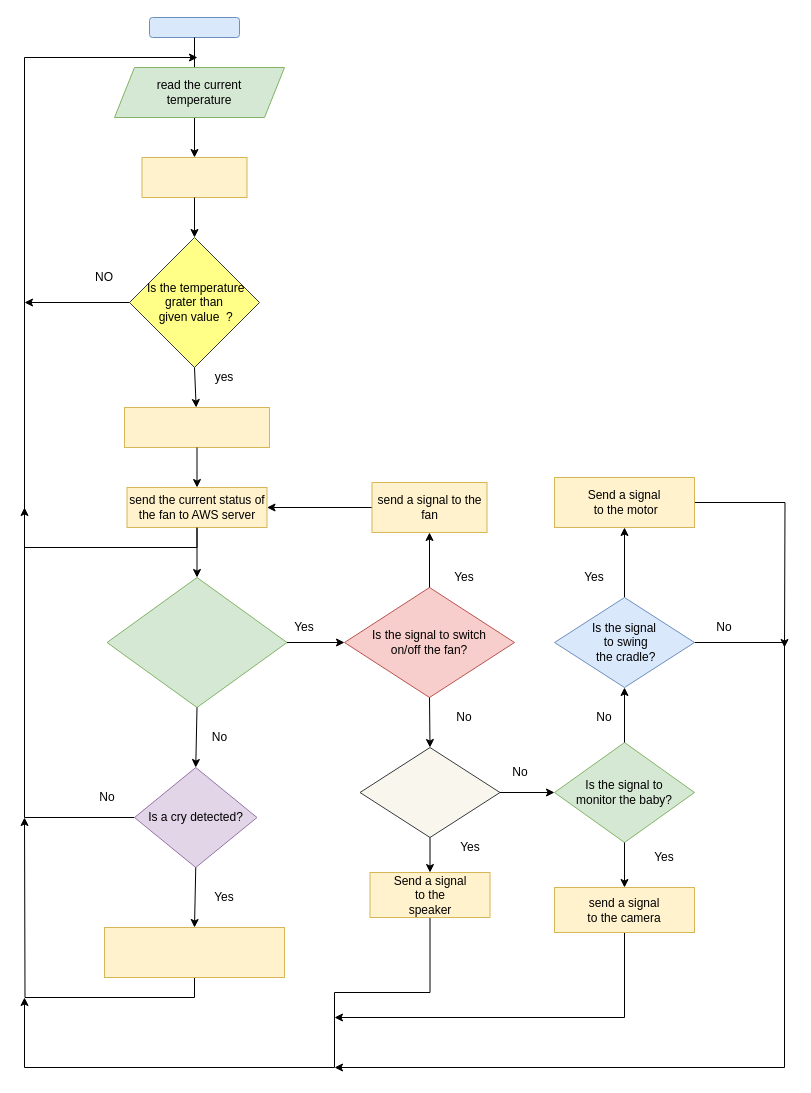
Some shapes in this 811 by 1093 pixel diagram are drawn without their labels. The centre of each missing label's shape, as x and y in pixels:
"Is a signal received from the mobile app?" goes at point 196,642.
"Is the signal to play music?" goes at point 429,792.
"send a signal to switch on the fan" goes at point 197,427.
"send the current status of the cry detection unit, to the AWS server" goes at point 194,952.
"Start" goes at point 194,27.
"wait for 3 minutes" goes at point 194,177.
